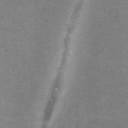finishing roll printing: (16, 23, 46, 114), (42, 0, 52, 20), (14, 116, 20, 124)
